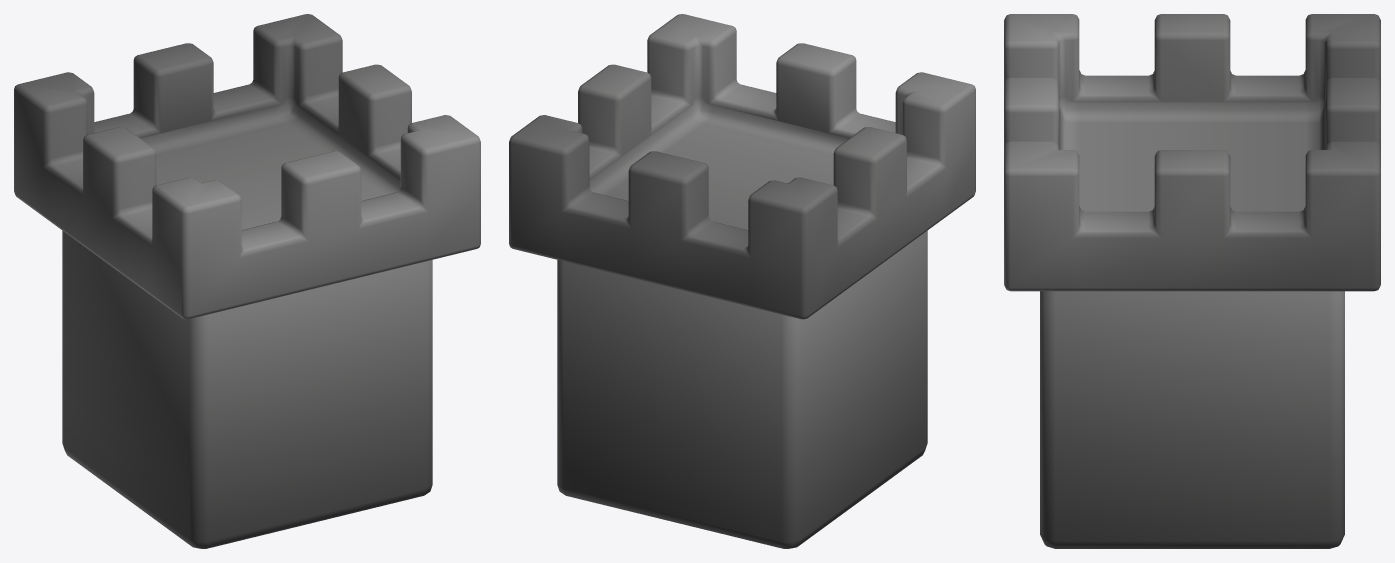
File: 3D_Tile_Dungeon_05.fbx
3 views of the same model, side by side, from view 1: azimuth 30°, elevation 25°; view 2: azimuth 150°, elevation 25°; view 3: azimuth 270°, elevation 25° (orthographic). The views are drawn at different scales.
Parts seen in each view (by area): view 1: 3D_Tile_Dungeon_05; view 2: 3D_Tile_Dungeon_05; view 3: 3D_Tile_Dungeon_05.
Part boxes in pixels (left/top/right/bottom): 3D_Tile_Dungeon_05: left=14, top=14, right=480, bottom=548; 3D_Tile_Dungeon_05: left=509, top=14, right=975, bottom=548; 3D_Tile_Dungeon_05: left=1004, top=14, right=1380, bottom=548.
Size of the model in its own units: 247 by 289 by 247.
